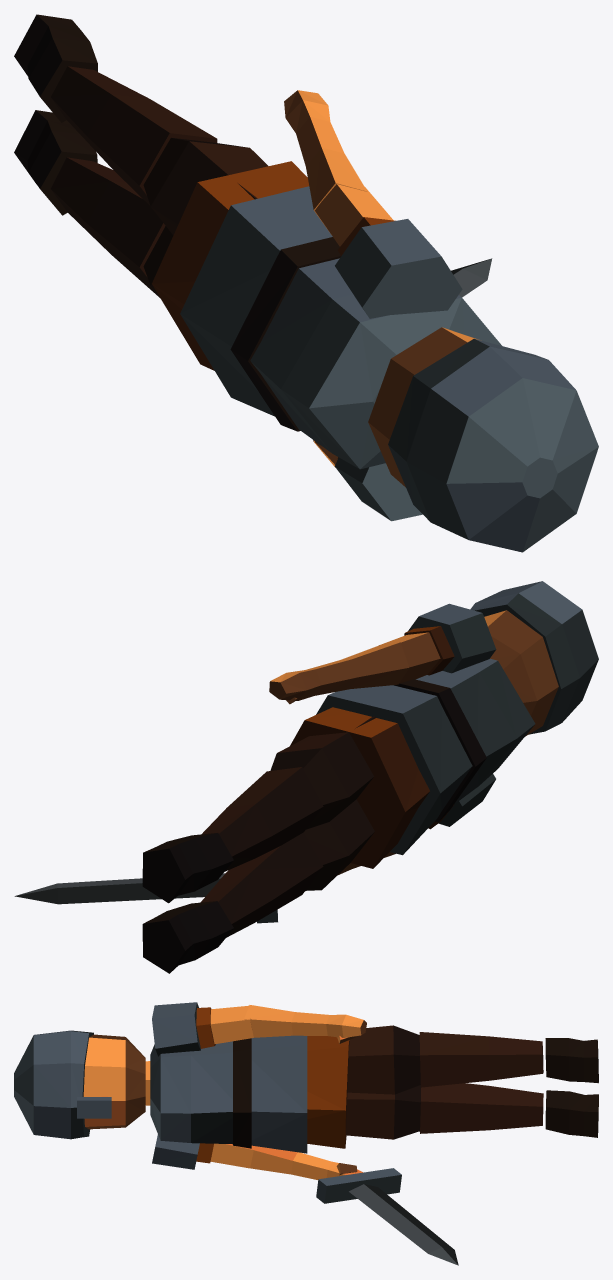
File: armored_villager.obj
3 views of the same model, one above another, from view 1: azimuth 30°, elevation 25°; view 2: azimuth 150°, elevation 25°; view 3: azimuth 270°, elevation 25° (orthographic). The views are drawn at different scales.
Parts seen in each view (by area): view 1: av_armored_villager; view 2: av_armored_villager; view 3: av_armored_villager.
Part boxes in pixels (left/top/right/bottom): av_armored_villager: left=14, top=14, right=598, bottom=552; av_armored_villager: left=14, top=581, right=598, bottom=973; av_armored_villager: left=14, top=1002, right=598, bottom=1265.
Bounding box in the file's own units: 0.5038 × 0.3317 × 1.
